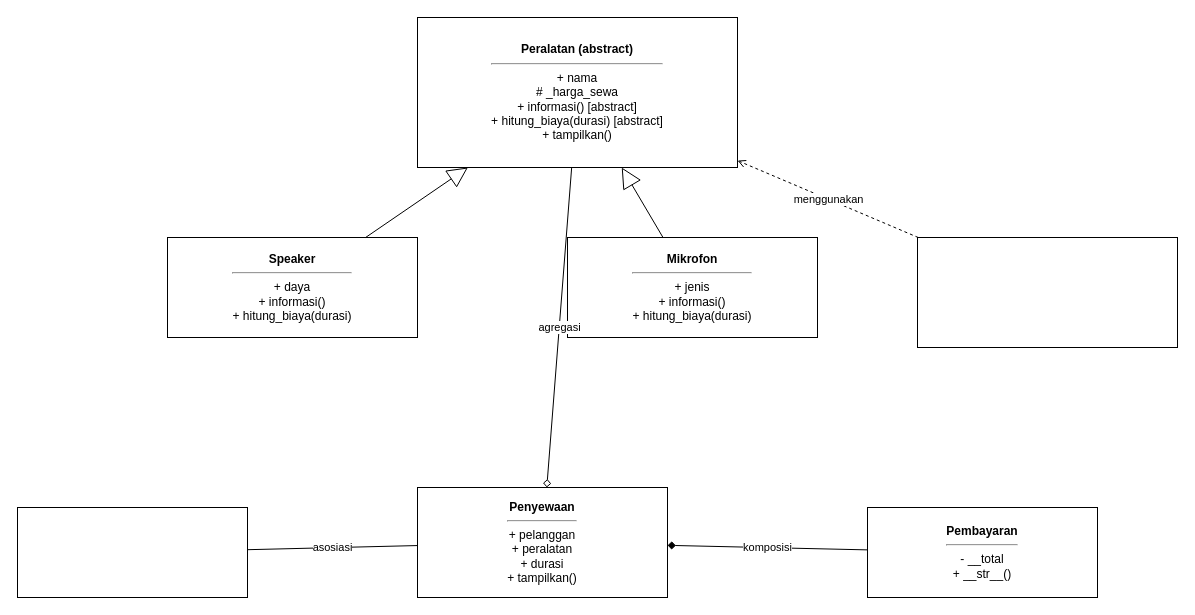
Image size: 1195x615. Some labels were removed from this diagram. Here are the shapes that lost their labels. From the top down, the centre of each, then its label:
the point at 1047,292: Keranjang + daftar + tambah(peralatan) + __add__(peralatan) + __len__()
the point at 132,552: Pelanggan + nama + informasi()
